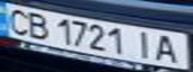1: (106, 25, 130, 56), (51, 16, 72, 45)
2: (84, 21, 109, 52)
7: (66, 18, 87, 48)
A: (151, 33, 184, 64)
B: (21, 9, 54, 39)
C: (3, 6, 33, 36)
I: (130, 28, 160, 60)
